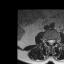CCS_normal: (50, 38, 52, 45)
LFS_normal: (54, 38, 56, 44)
LLS_normal: (52, 38, 54, 45)
RFS_normal: (46, 37, 48, 44)
RLS_normal: (48, 38, 50, 44)
